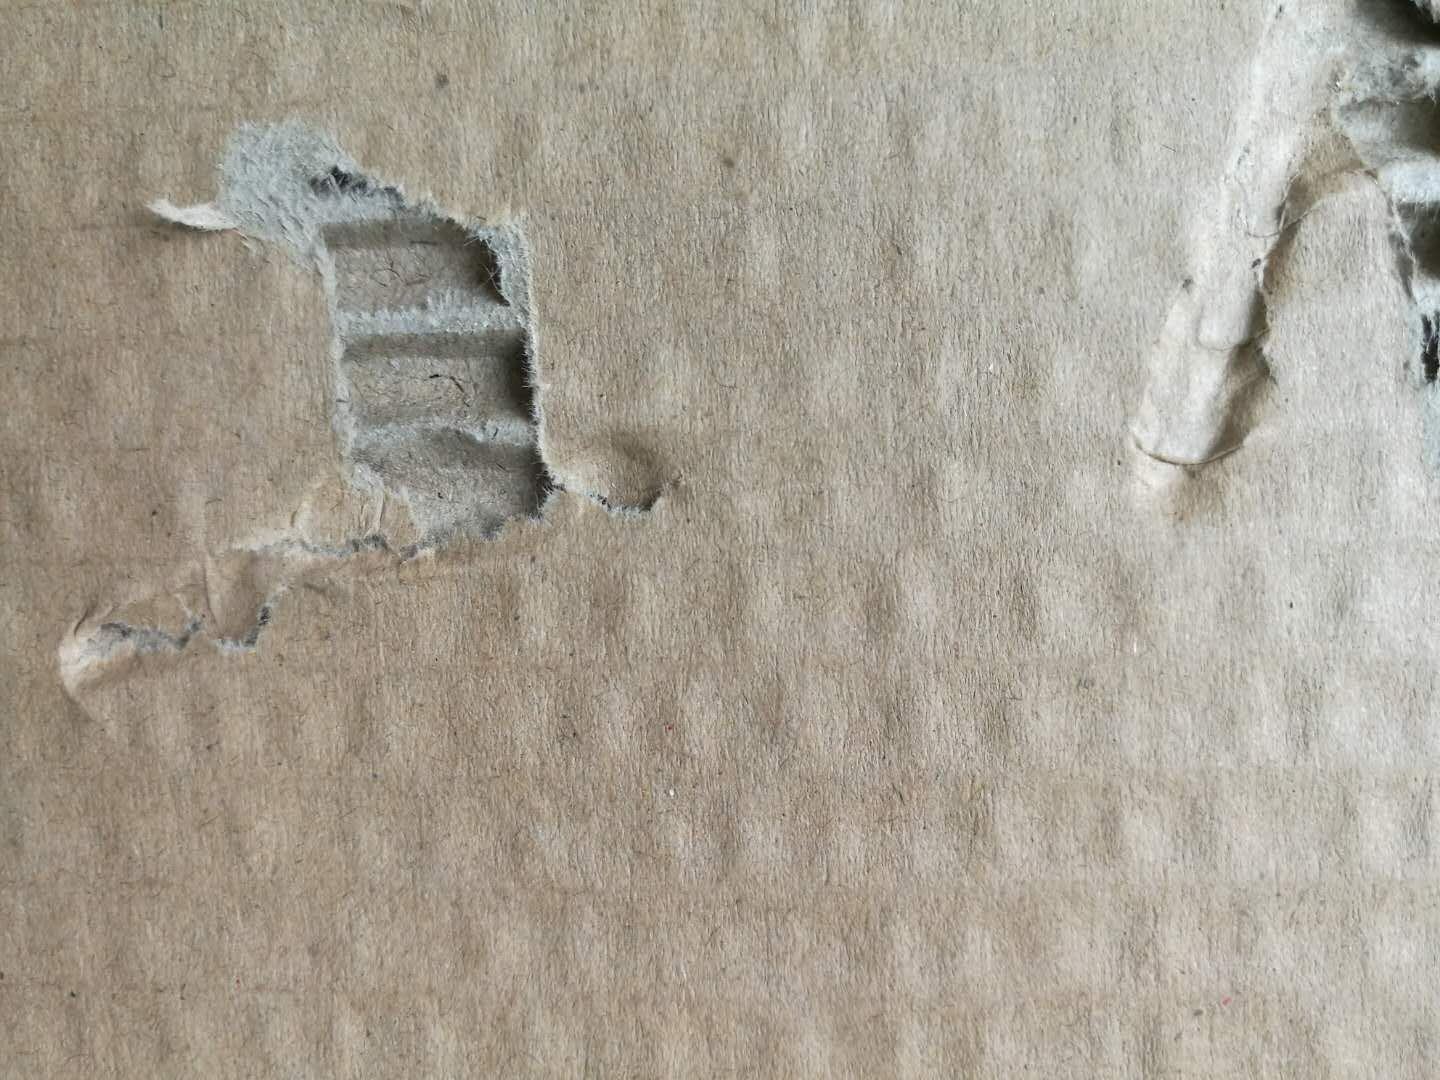defect: (35, 100, 728, 731), (1101, 2, 1440, 537)
